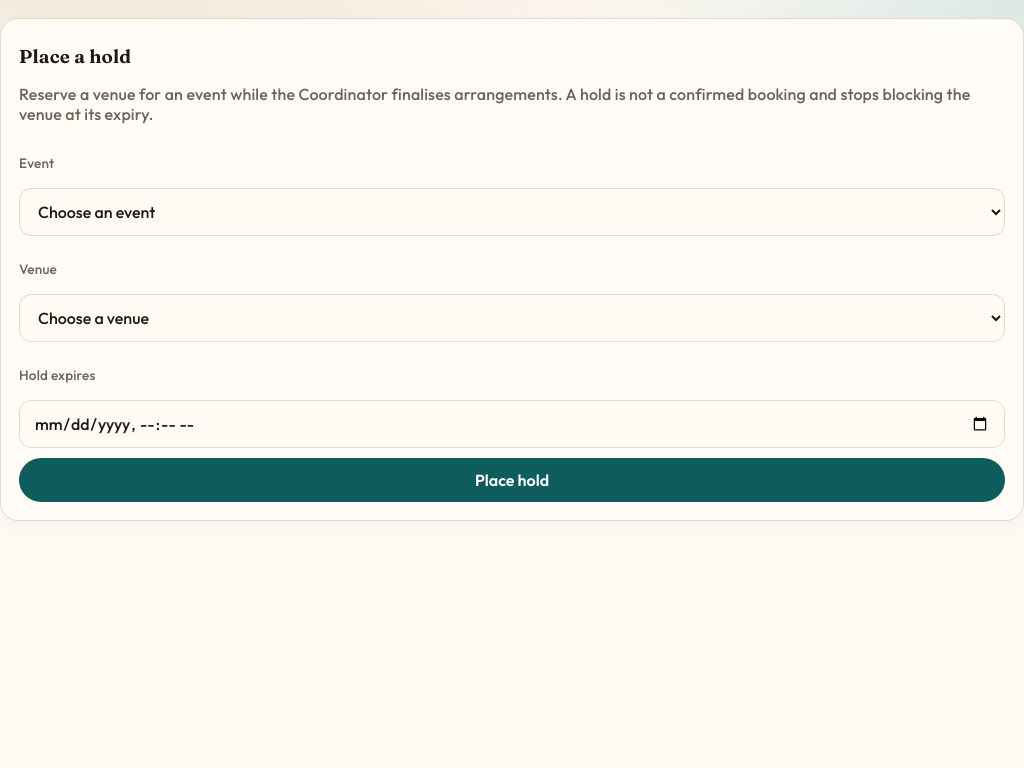
SCRUM-75 PlaceHoldCard › US75-F01: sends the event, venue and expiry (as ISO) to the holds route
Select "Tech Talk" in the dropdown labelled "Event" at (512, 212), box x1=19 y1=188 x2=1005 y2=236
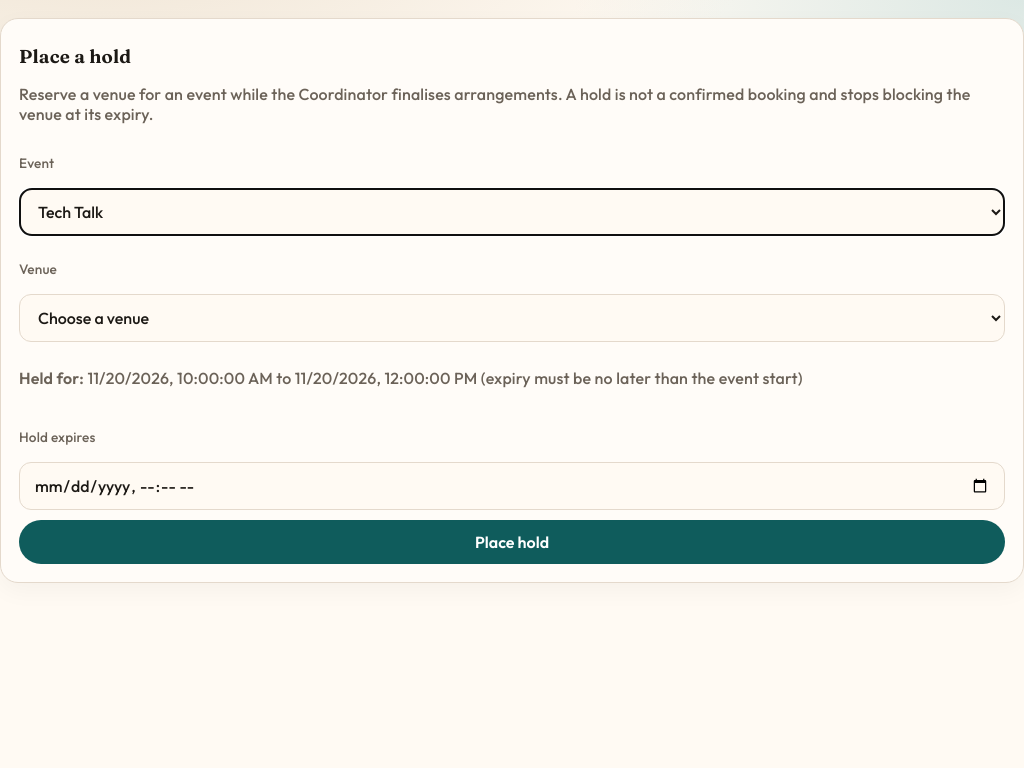
Select "Hall A" in the dropdown labelled "Venue" at (512, 318), box x1=19 y1=294 x2=1005 y2=342
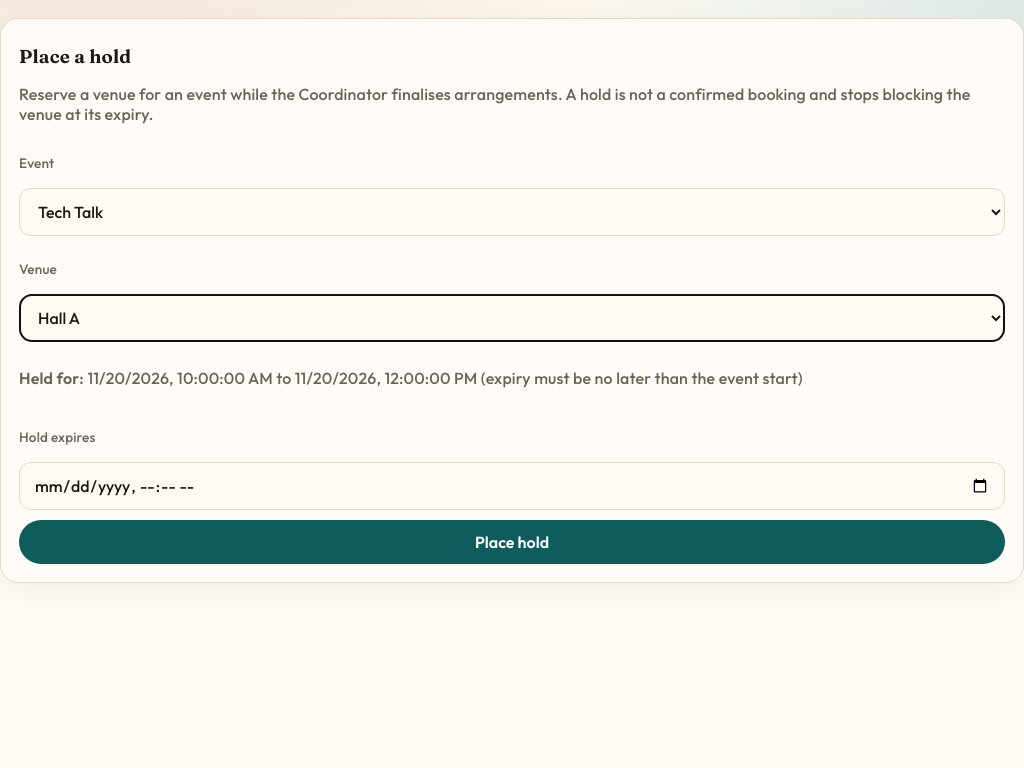
Type "2026-11-18T09:00" into the field labelled "Hold expires" at (512, 486), box x1=19 y1=462 x2=1005 y2=510
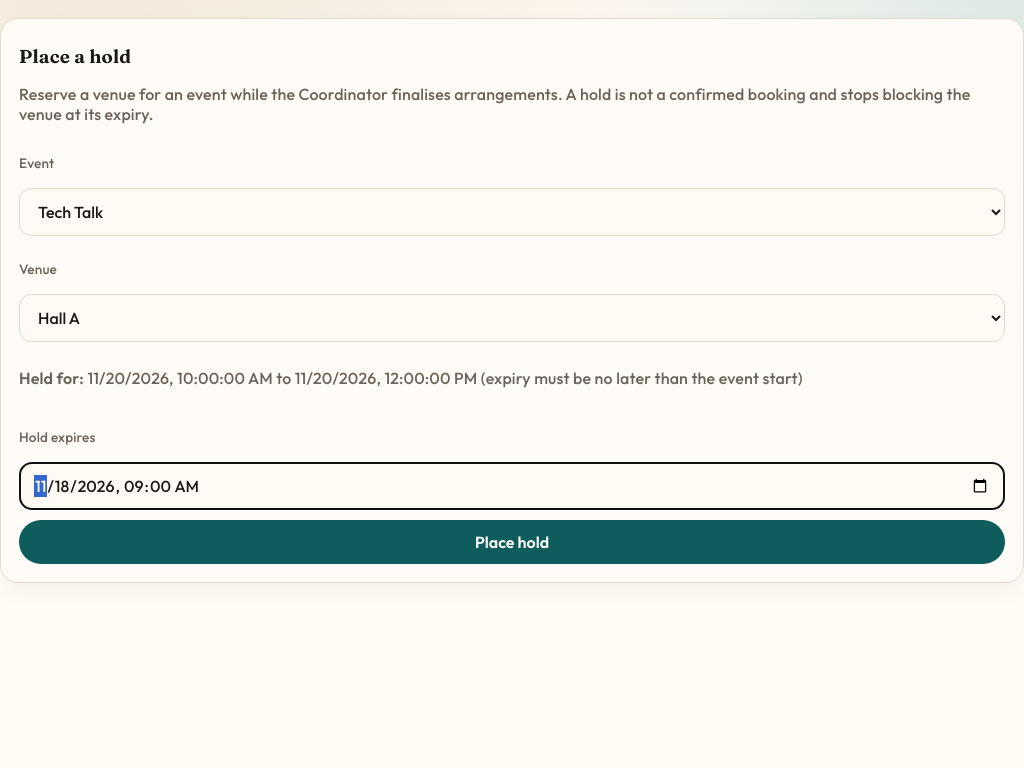
Click the button "Place hold" at (512, 542), box x1=19 y1=520 x2=1005 y2=564
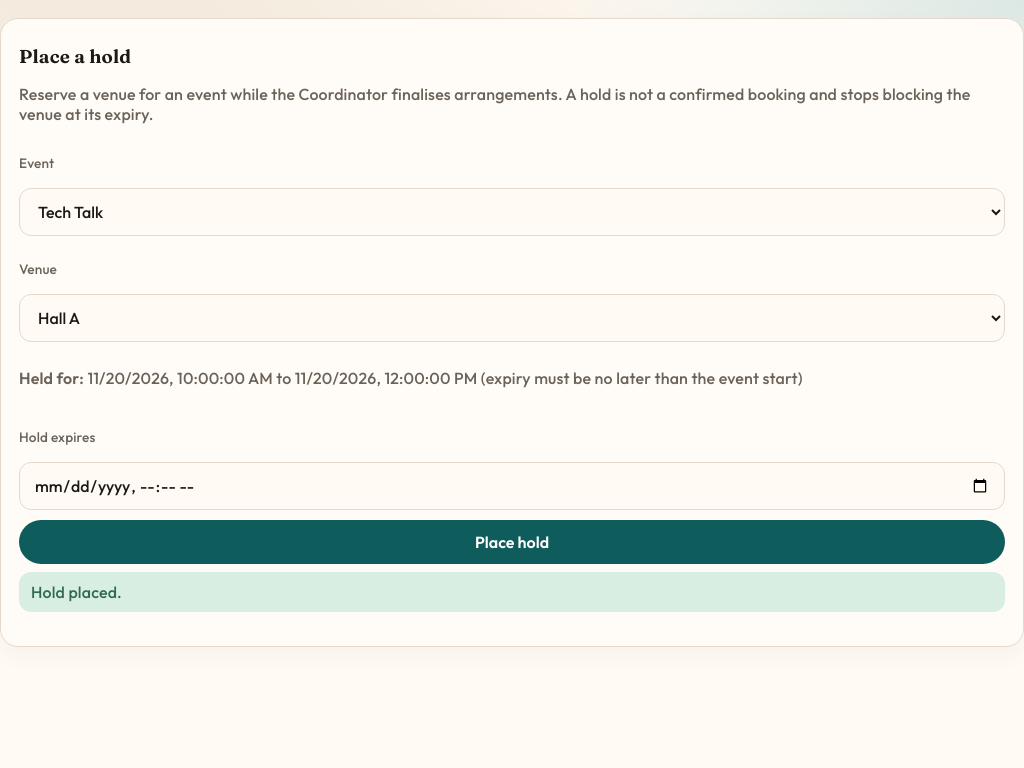
Expected: the text "Hold placed." is shown, x1=19 y1=572 x2=1005 y2=612
